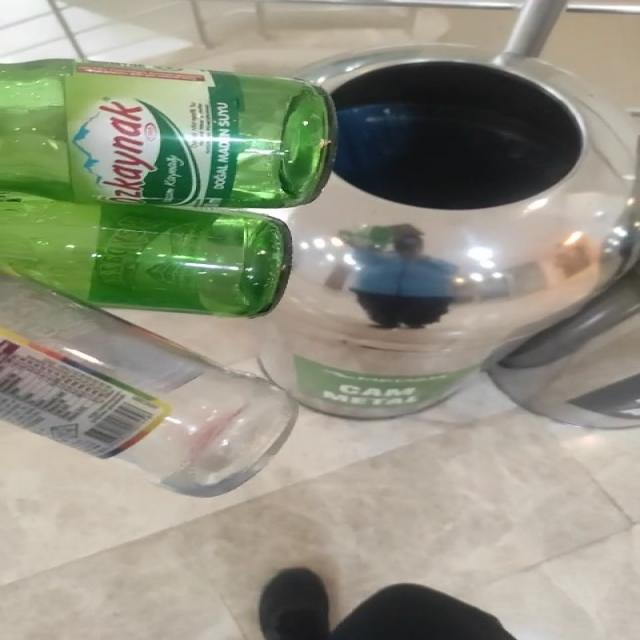glass: (1, 59, 333, 497)
